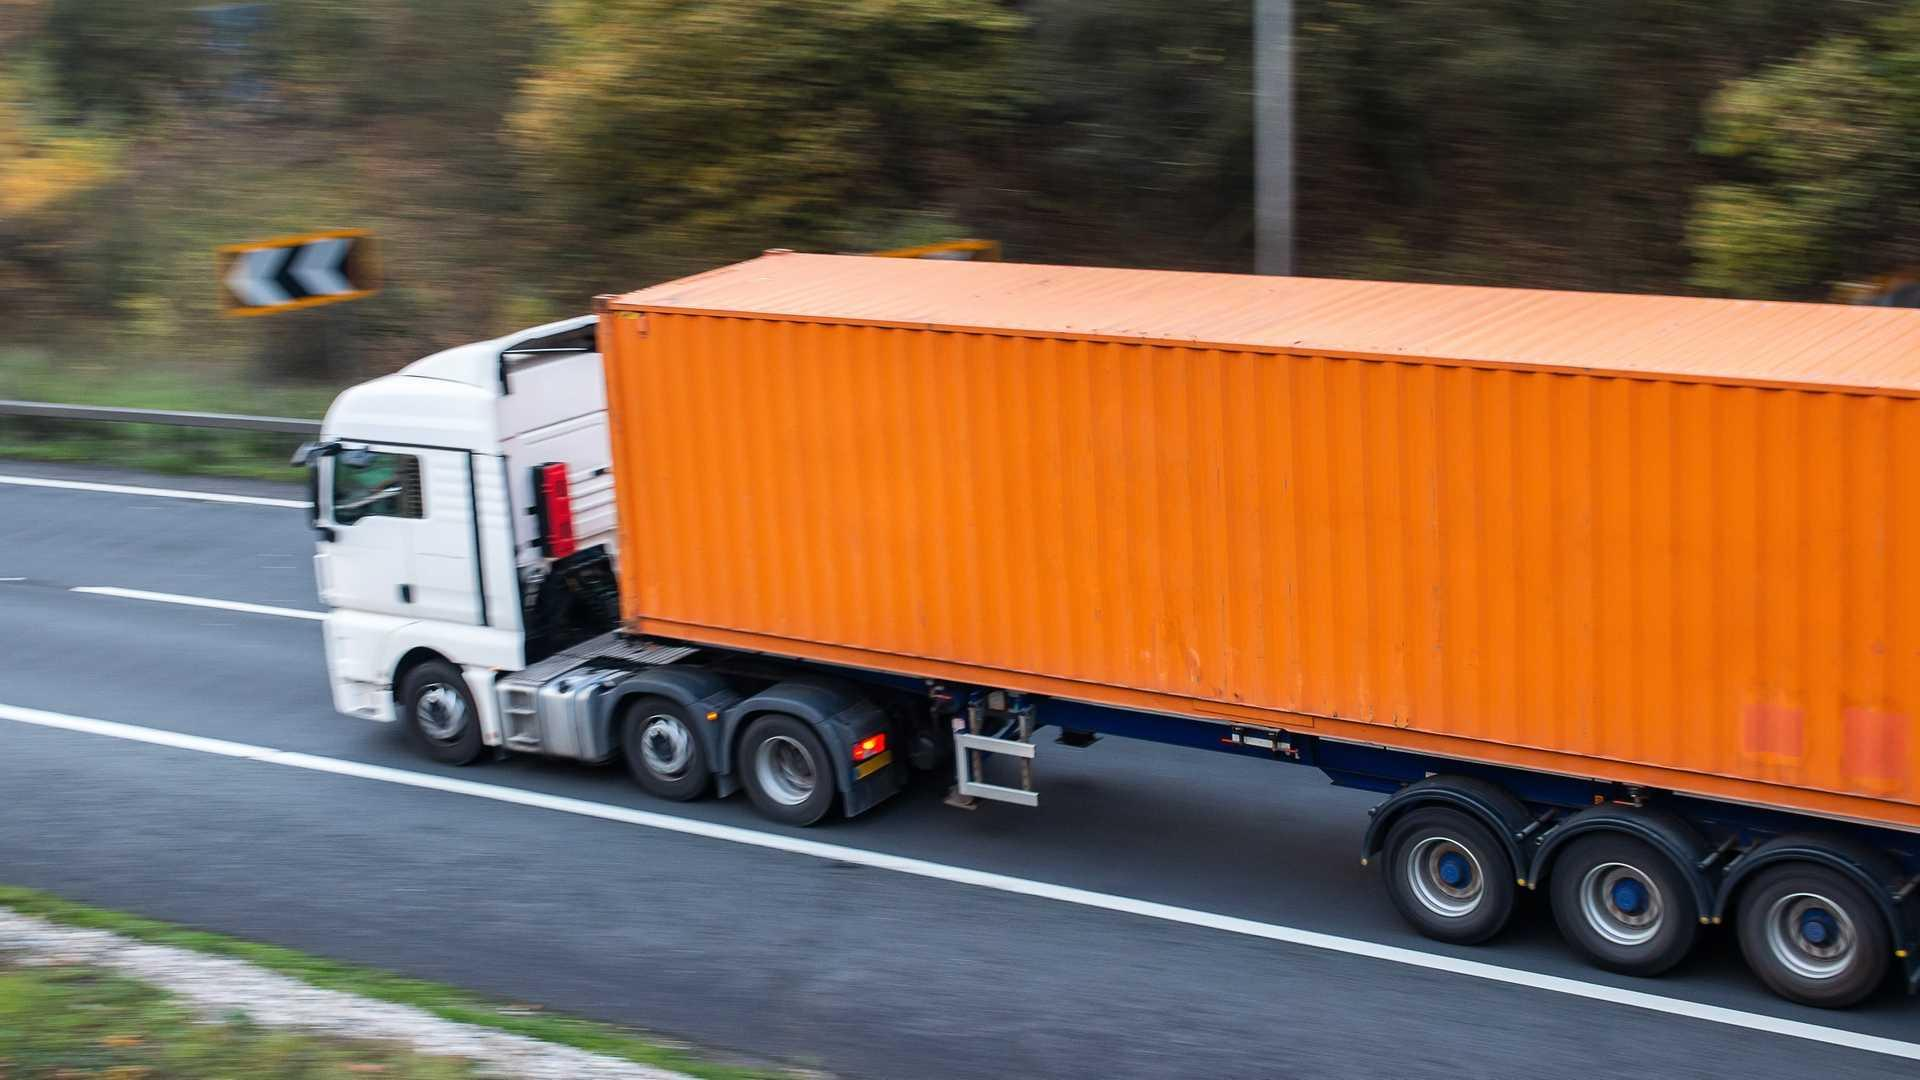truck: (282, 247, 1920, 1013)
